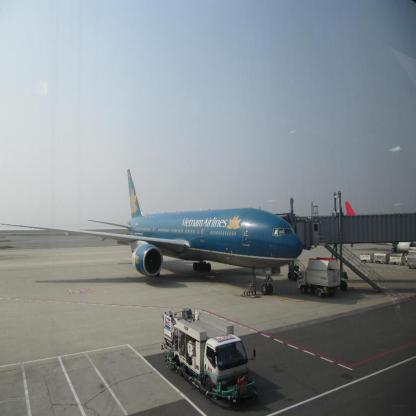Truck: (160, 308, 258, 405), (296, 258, 340, 297)
